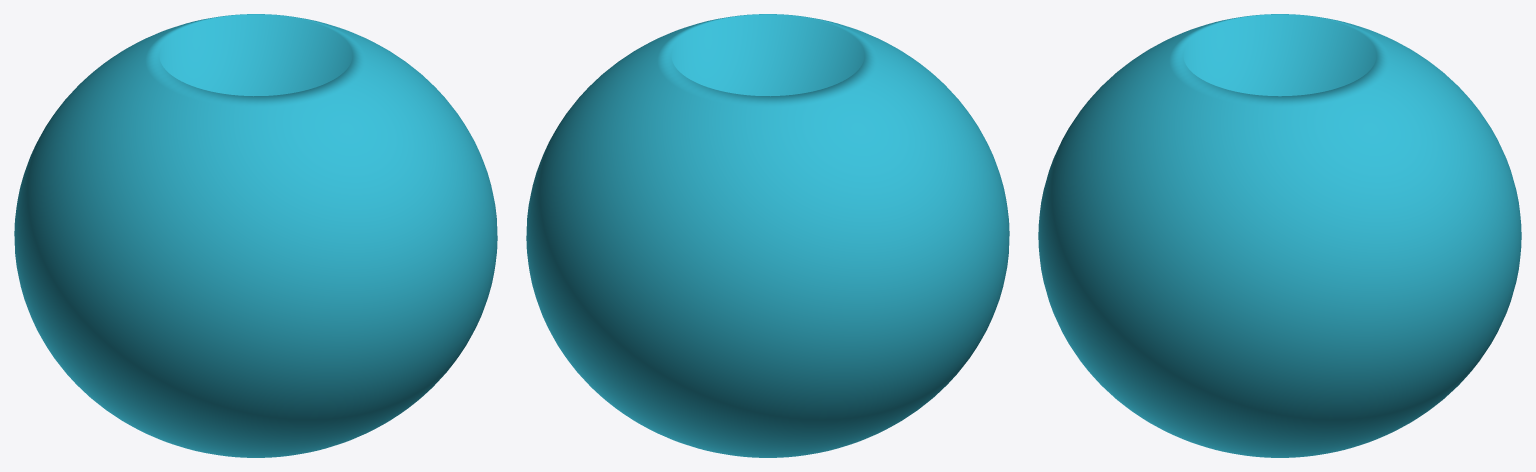
Rendered from spacer-308-glass.glb.
The picture shows the model from 3 angles, left to right: view 1: azimuth 30°, elevation 25°; view 2: azimuth 150°, elevation 25°; view 3: azimuth 270°, elevation 25°; orthographic projection.
Parts seen in each view (by area): view 1: Spacer with through bore.007; view 2: Spacer with through bore.007; view 3: Spacer with through bore.007.
Part boxes in pixels (bbox=[...]): Spacer with through bore.007: bbox=[14, 14, 497, 457]; Spacer with through bore.007: bbox=[526, 14, 1009, 457]; Spacer with through bore.007: bbox=[1038, 14, 1521, 457].
Size of the model in its own units: 0.002 by 0.00165 by 0.002.
